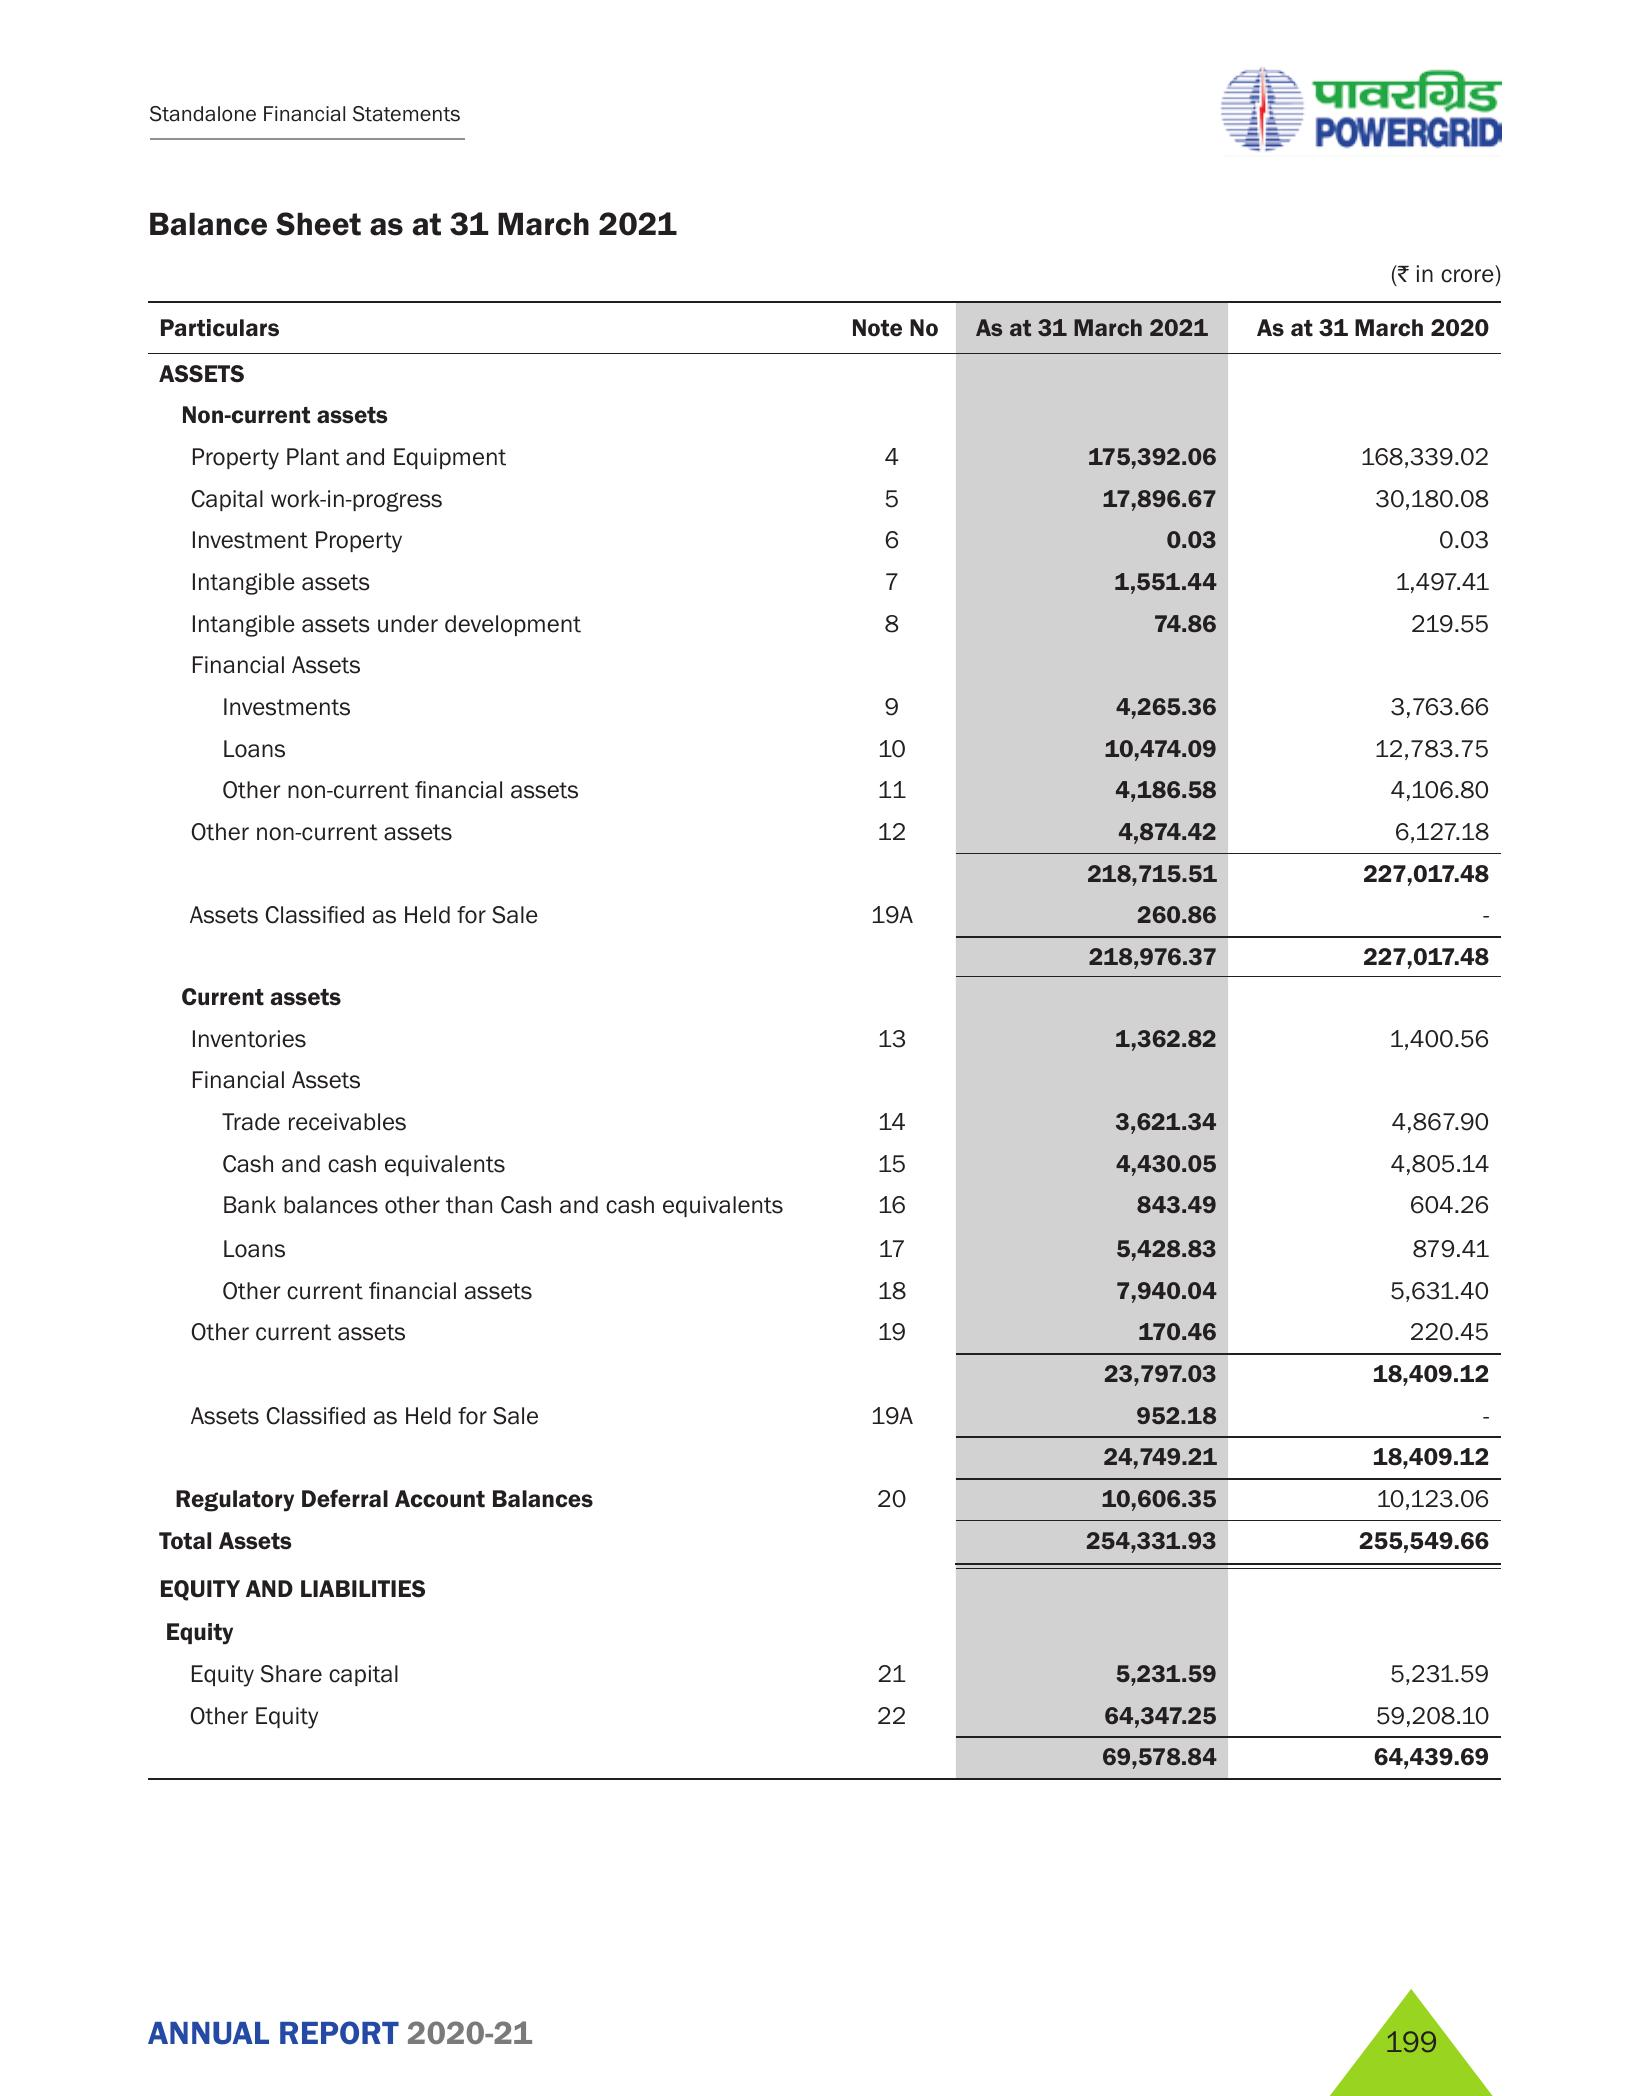Footer: (0, 1956, 1650, 2096)
Header: (0, 0, 1650, 180)
Table: (129, 242, 1533, 1798)
